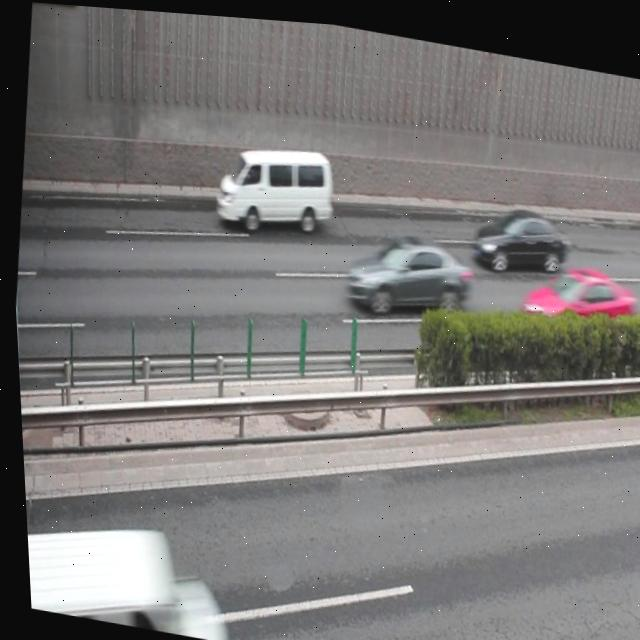car: (339, 222, 470, 320), (515, 249, 633, 333), (469, 194, 568, 270)
truck: (20, 501, 230, 640), (209, 129, 335, 238)
